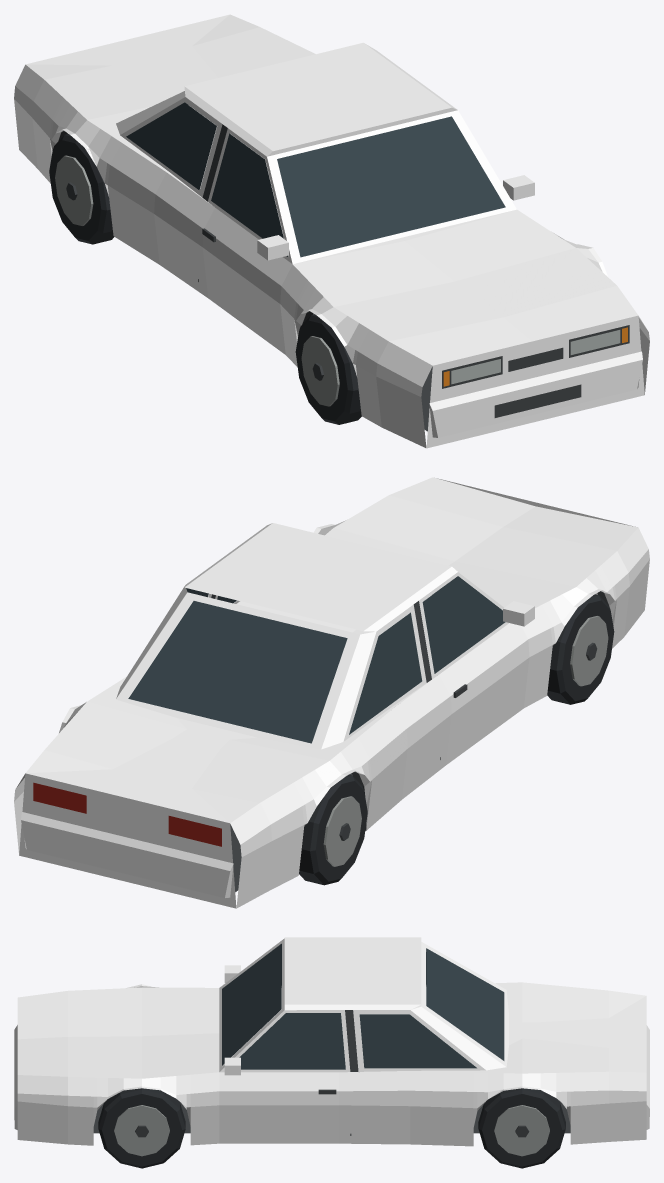
The model's file is tokiwa_mizuho_s.glb.
3 views of the same model, one above another, from view 1: azimuth 30°, elevation 25°; view 2: azimuth 150°, elevation 25°; view 3: azimuth 270°, elevation 25° (orthographic). The views are drawn at different scales.
Parts seen in each view (by area): view 1: tokiwa_mizuho_s; view 2: tokiwa_mizuho_s; view 3: tokiwa_mizuho_s.
Part boxes in pixels (bbox=[...]): tokiwa_mizuho_s: bbox=[14, 14, 649, 448]; tokiwa_mizuho_s: bbox=[14, 477, 649, 908]; tokiwa_mizuho_s: bbox=[14, 937, 649, 1168].
Bounding box in the file's own units: 1.82 × 1.21 × 4.7.
Materials: 8 (1 with a texture image).
